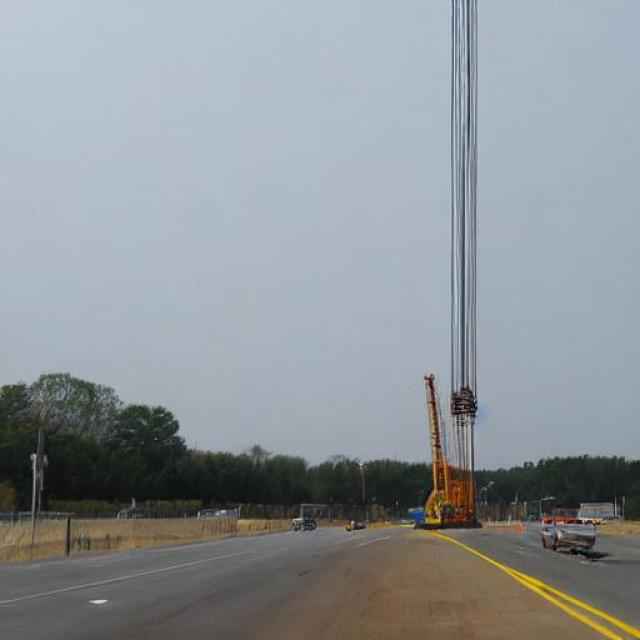crane: (171, 124, 640, 639), (586, 0, 625, 115)
